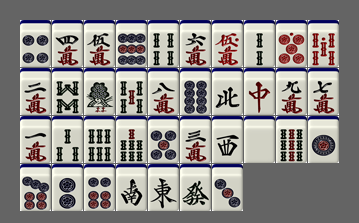0m: (212, 20, 243, 67)
0p: (276, 20, 307, 67)
0s: (308, 20, 339, 67)
1m: (20, 116, 51, 163)
1p: (308, 116, 339, 163)
1s: (84, 68, 115, 115)
1z: (148, 164, 179, 211)
2m: (20, 68, 51, 115)
2p: (52, 164, 83, 211)
2s: (244, 20, 275, 67)
2z: (116, 164, 147, 211)
3m: (180, 116, 211, 163)
3p: (212, 164, 243, 211)
3s: (52, 116, 83, 163)
3z: (212, 116, 243, 163)
4m: (52, 20, 83, 67)
4p: (20, 20, 51, 67)
4s: (148, 20, 179, 67)
4z: (212, 68, 243, 115)
5m: (84, 20, 115, 67)
5p: (148, 116, 179, 163)
5s: (116, 68, 147, 115)
5z: (244, 116, 275, 163)
6m: (180, 20, 211, 67)
6p: (84, 164, 115, 211)
6s: (84, 116, 115, 163)
6z: (180, 164, 211, 211)
7m: (308, 68, 339, 115)
7p: (20, 164, 51, 211)
7s: (116, 116, 147, 163)
7z: (244, 68, 275, 115)
8m: (148, 68, 179, 115)
8p: (180, 68, 211, 115)
8s: (52, 68, 83, 115)
9m: (276, 68, 307, 115)
9p: (116, 20, 147, 67)
9s: (276, 116, 307, 163)
